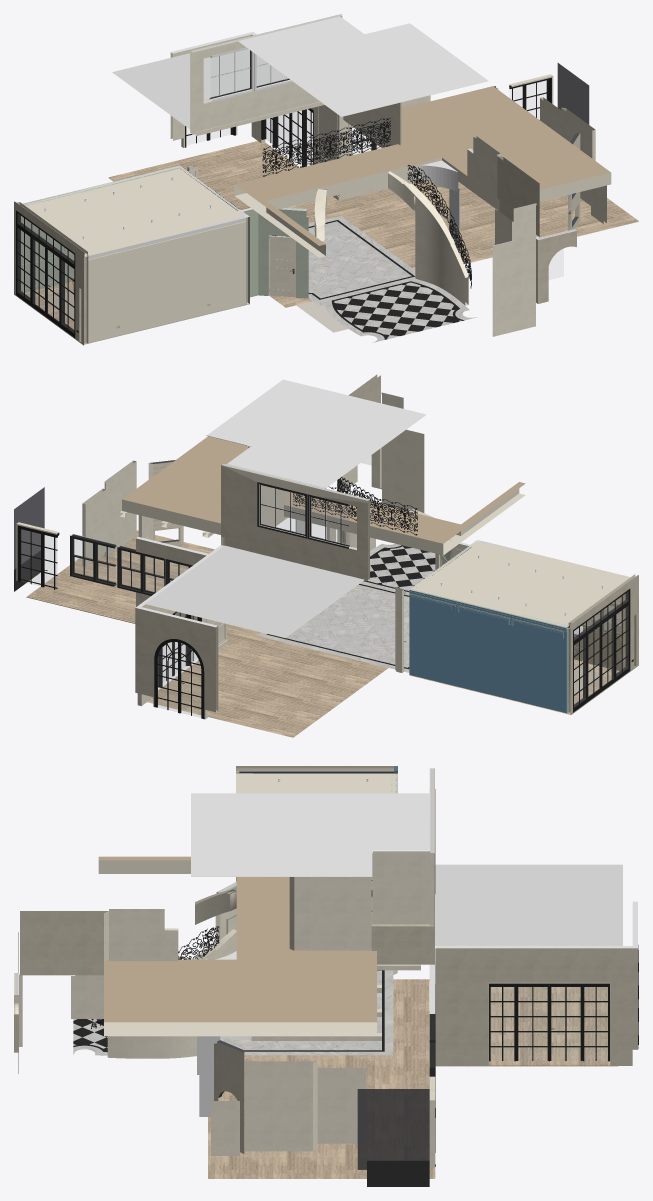
Rendered from dining-room-78b5e71a4c93.glb.
The picture shows the model from 3 angles, top to bottom: view 1: azimuth 30°, elevation 25°; view 2: azimuth 150°, elevation 25°; view 3: azimuth 270°, elevation 25°; orthographic projection. The views are drawn at different scales.
Parts seen in each view (by area): view 1: dining-room-look-2575515a05775d9e, dining-room-look-9d91b47435c6fb33, dining-room-d999b7e09afcf2f4, dining-room-look-3b0077416469e01b, dining-room-2575515a05775d9e, dining-room-look-4a969f5cc1ae3dfe, dining-room-look-245f595ae2832e16, dining-room-look-e388ad8855329420, dining-room-look-6ea1225136f14ed6, dining-room-look-d5a4a1b5d3594c04, dining-room-look-8c6a7019fd0063e7, dining-room-look-b25fb5f5b7a449e2 (+42 smaller); view 2: dining-room-look-3b0077416469e01b, dining-room-b19b106fc304963c, dining-room-look-9d91b47435c6fb33, dining-room-look-2575515a05775d9e, dining-room-look-4a969f5cc1ae3dfe, dining-room-2575515a05775d9e, dining-room-look-245f595ae2832e16, dining-room-look-6ea1225136f14ed6, dining-room-look-969b861f9850351e, dining-room-look-d5a4a1b5d3594c04, dining-room-look-cdd3b97a7e9637be, dining-room-look-e388ad8855329420 (+26 smaller); view 3: dining-room-look-2575515a05775d9e, dining-room-look-3b0077416469e01b, dining-room-look-9d91b47435c6fb33, dining-room-look-4a969f5cc1ae3dfe, dining-room-look-e706aa16b4547c37, dining-room-look-5b6bbac285e58726, dining-room-look-69af8f587252f9fa, dining-room-look-62353aa10fc57f23, dining-room-look-cbd4bf73d9724a66, dining-room-look-32b959c9aa406288, dining-room-look-99336d62df756830, dining-room-2575515a05775d9e (+22 smaller).
Part boxes in pixels (x1,y1,x2,y2): dining-room-look-2575515a05775d9e: [234, 86, 611, 257]; dining-room-look-9d91b47435c6fb33: [238, 16, 487, 116]; dining-room-d999b7e09afcf2f4: [88, 216, 246, 342]; dining-room-look-3b0077416469e01b: [108, 141, 638, 307]; dining-room-2575515a05775d9e: [15, 166, 248, 256]; dining-room-look-4a969f5cc1ae3dfe: [112, 49, 288, 129]; dining-room-look-245f595ae2832e16: [190, 14, 342, 134]; dining-room-look-e388ad8855329420: [334, 282, 461, 339]; dining-room-look-6ea1225136f14ed6: [269, 221, 411, 298]; dining-room-look-d5a4a1b5d3594c04: [492, 235, 535, 336]; dining-room-look-8c6a7019fd0063e7: [388, 171, 468, 305]; dining-room-look-b25fb5f5b7a449e2: [262, 117, 390, 176]; dining-room-look-3b0077416469e01b: [26, 530, 387, 737]; dining-room-b19b106fc304963c: [409, 590, 567, 713]; dining-room-look-9d91b47435c6fb33: [206, 379, 425, 488]; dining-room-look-2575515a05775d9e: [122, 436, 525, 555]; dining-room-look-4a969f5cc1ae3dfe: [146, 545, 364, 637]; dining-room-2575515a05775d9e: [410, 541, 637, 628]; dining-room-look-245f595ae2832e16: [221, 464, 369, 580]; dining-room-look-6ea1225136f14ed6: [286, 584, 409, 667]; dining-room-look-969b861f9850351e: [135, 606, 218, 712]; dining-room-look-d5a4a1b5d3594c04: [382, 429, 424, 512]; dining-room-look-cdd3b97a7e9637be: [257, 482, 307, 538]; dining-room-look-e388ad8855329420: [368, 546, 435, 590]; dining-room-look-2575515a05775d9e: [98, 856, 376, 1036]; dining-room-look-3b0077416469e01b: [208, 979, 617, 1178]; dining-room-look-9d91b47435c6fb33: [191, 793, 429, 876]; dining-room-look-4a969f5cc1ae3dfe: [435, 864, 622, 945]; dining-room-look-e706aa16b4547c37: [435, 946, 632, 1065]; dining-room-look-5b6bbac285e58726: [245, 1061, 317, 1151]; dining-room-look-69af8f587252f9fa: [289, 877, 371, 950]; dining-room-look-62353aa10fc57f23: [20, 911, 108, 975]; dining-room-look-cbd4bf73d9724a66: [357, 1089, 429, 1169]; dining-room-look-32b959c9aa406288: [372, 851, 429, 924]; dining-room-look-99336d62df756830: [317, 1068, 365, 1143]; dining-room-2575515a05775d9e: [236, 766, 397, 793].
Size of the model in its own units: 20 by 6.36 by 16.79.
Materials: 51 (15 with a texture image).
